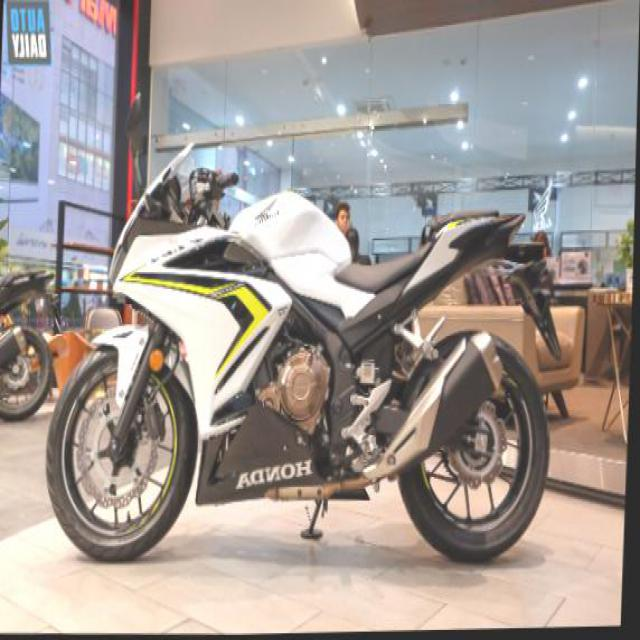CBR500R: (42, 128, 573, 574)
